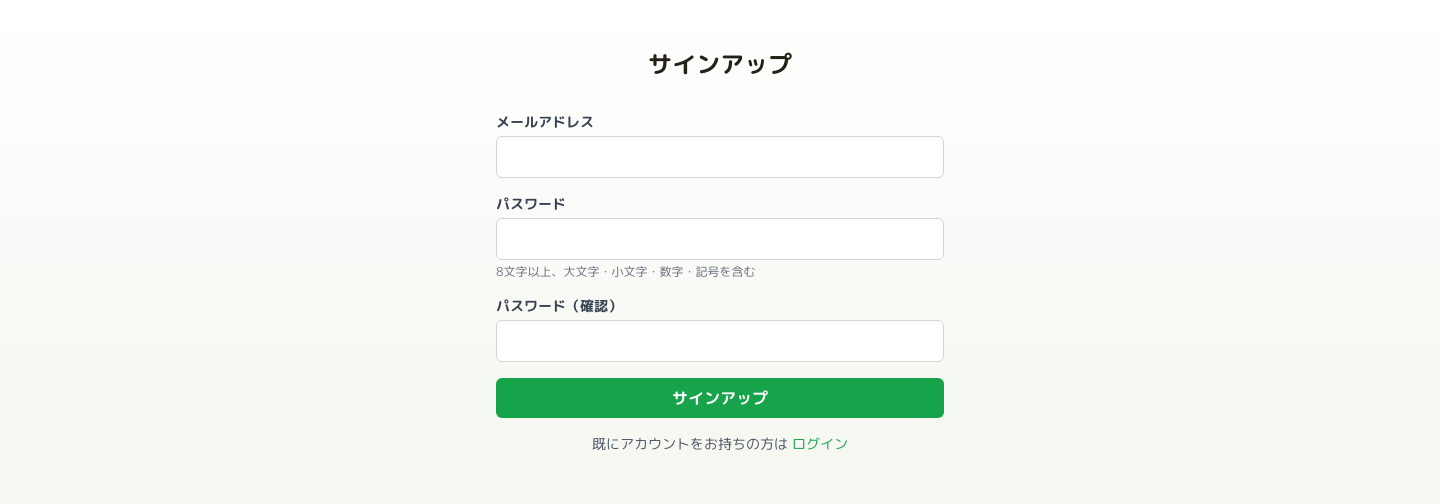
Test: SignupPage › submits signup and shows confirmation step
Step 1. Type "test@test.com" into the field labelled "メールアドレス" → (720, 157), box [496, 136, 944, 178]
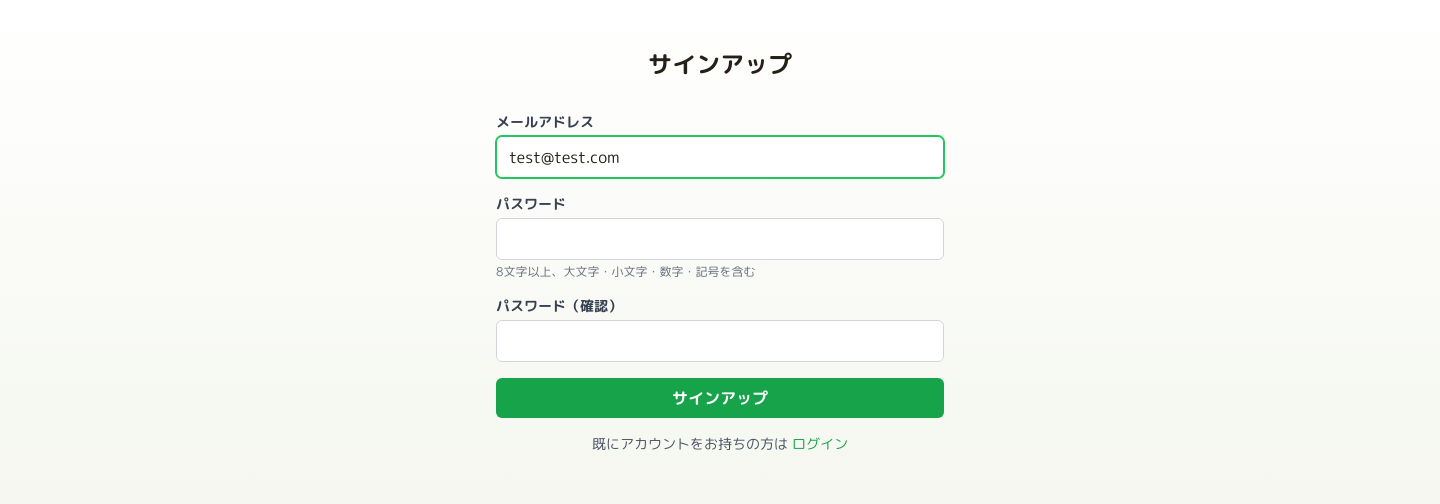
Step 2. Type "Password1!" into the password field labelled "パスワード" → (720, 239), box [496, 218, 944, 260]
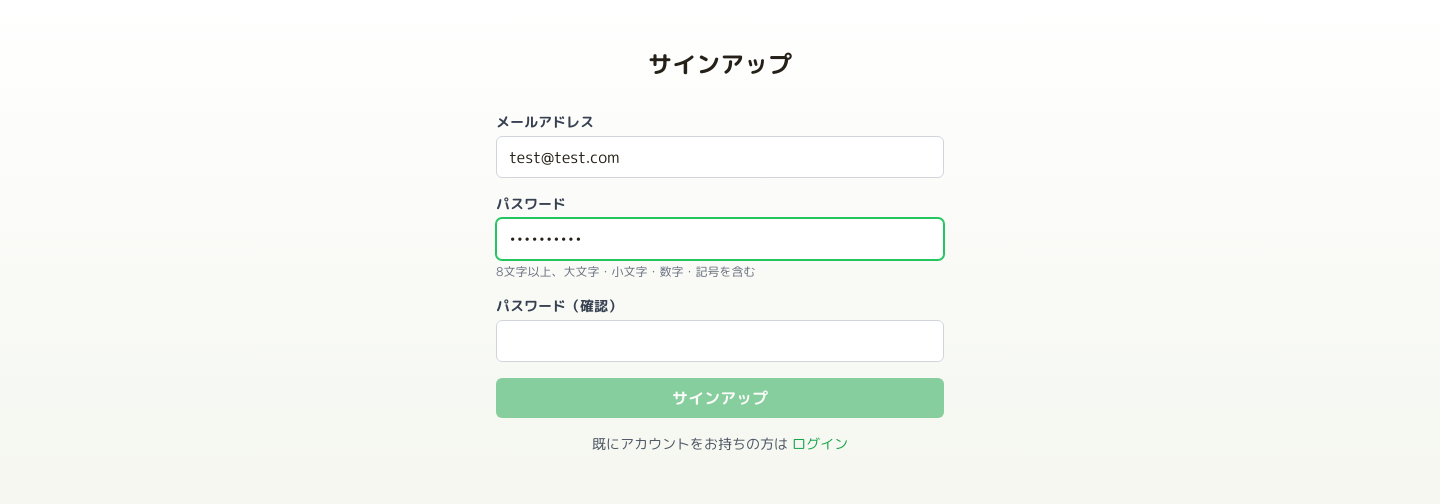
Step 3. Type "Password1!" into the password field labelled "パスワード（確認）" → (720, 341), box [496, 320, 944, 362]
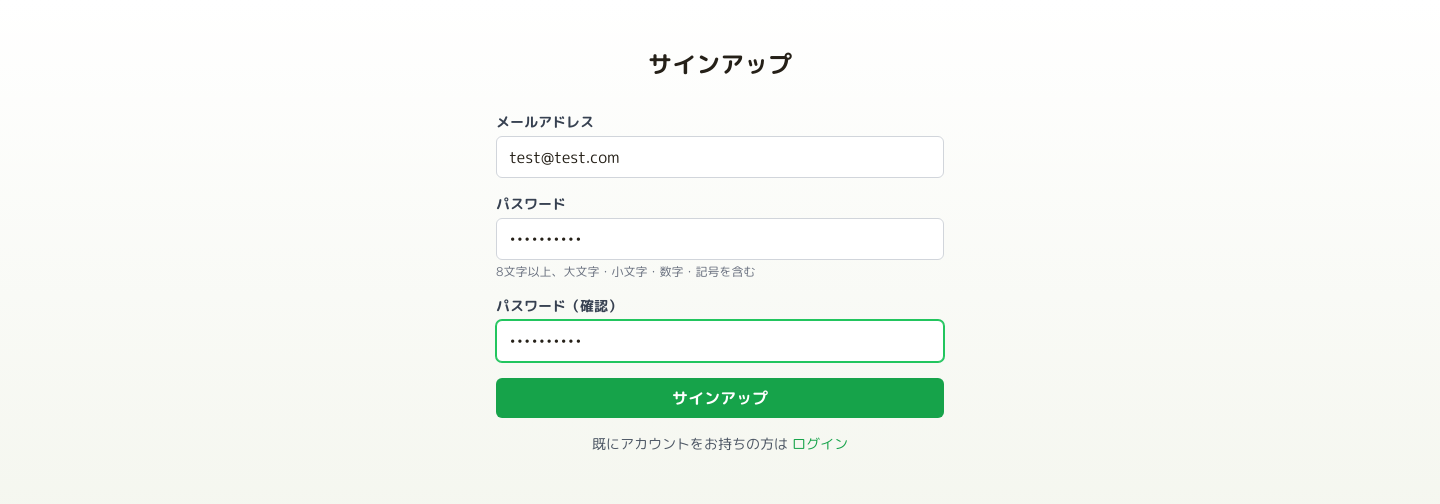
Step 4. Click the button "サインアップ" → (720, 398), box [496, 378, 944, 418]
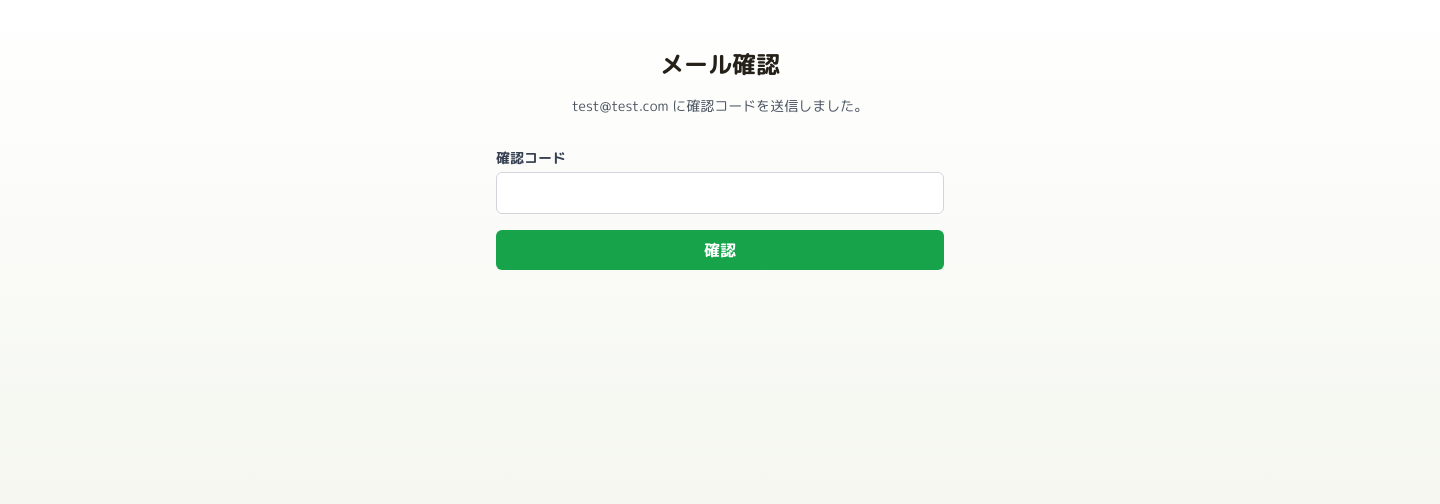
Now the heading "メール確認" is shown, box [660, 47, 780, 81]
